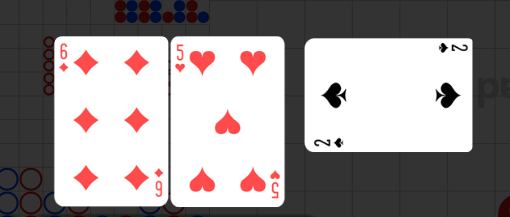2S: (436, 42, 469, 55)
5H: (269, 168, 282, 200)
6D: (58, 42, 70, 74)
